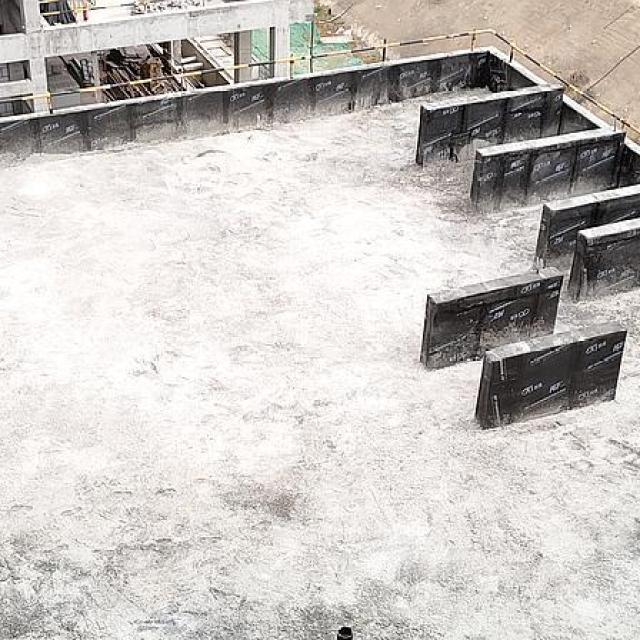Guardrail: (0, 27, 640, 137), (38, 0, 135, 21)
